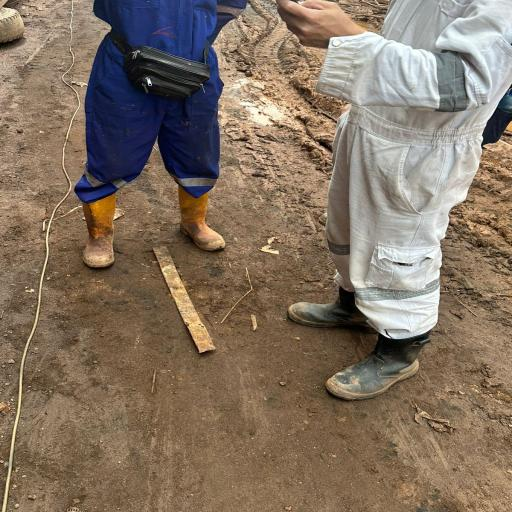safety_shoe: (327, 322, 429, 406), (281, 275, 377, 335), (73, 189, 125, 272), (174, 180, 230, 256)
